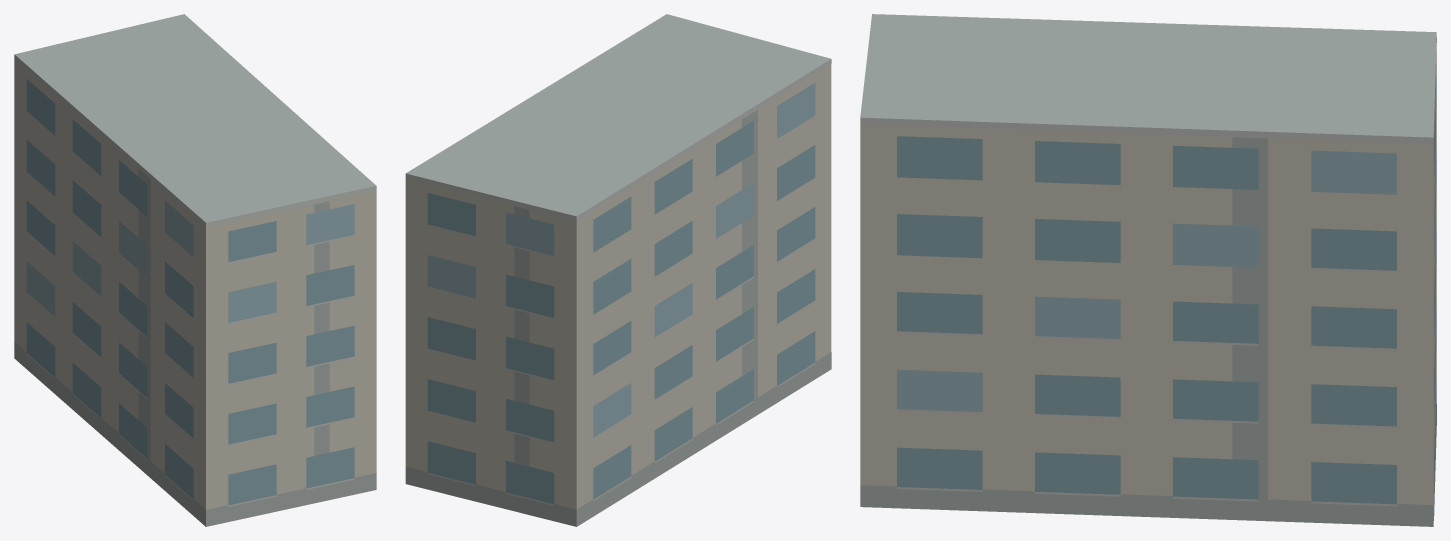
The model's file is survey-upis-32760889.glb.
3 renders of one model, left to right at view 1: azimuth 30°, elevation 25°; view 2: azimuth 150°, elevation 25°; view 3: azimuth 270°, elevation 25°, orthographic. The views are drawn at different scales.
Visible parts, largest first — view 1: survey-upis-32760889.tmp; view 2: survey-upis-32760889.tmp; view 3: survey-upis-32760889.tmp.
Boxes of the visible parts, left/top/right/bottom form: survey-upis-32760889.tmp: left=14, top=14, right=376, bottom=526; survey-upis-32760889.tmp: left=405, top=14, right=831, bottom=526; survey-upis-32760889.tmp: left=860, top=14, right=1436, bottom=526.
Size of the model in its own units: 9.74 by 14.3 by 19.21.
